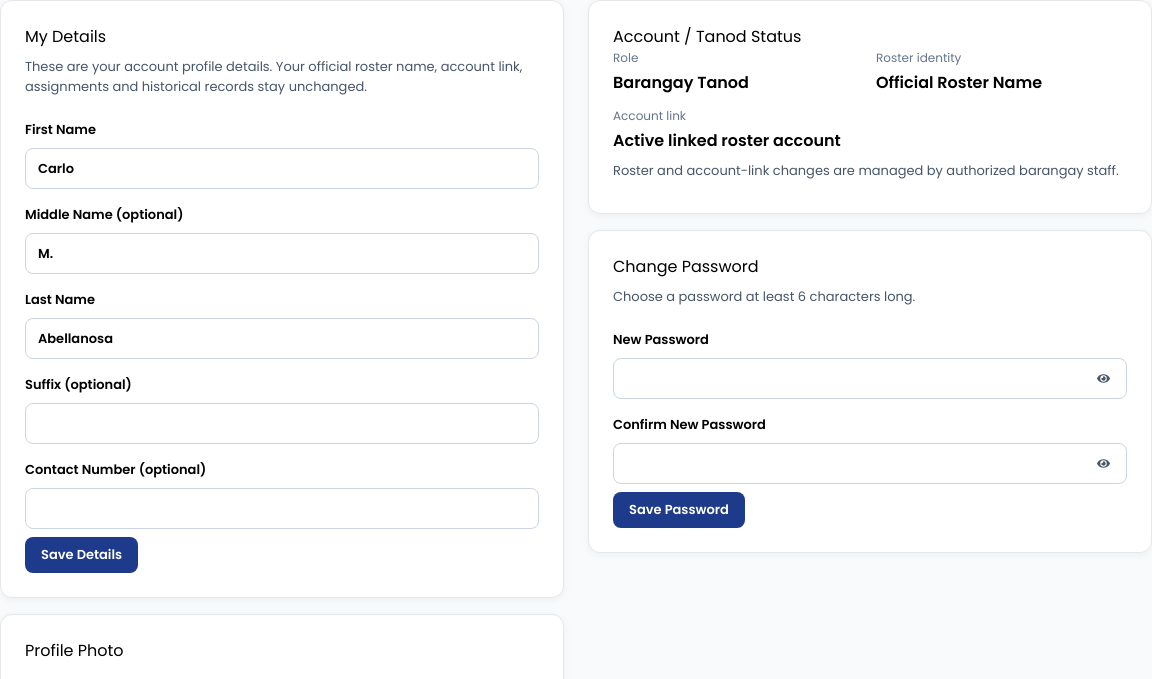
it: Auth errors leave settings available without reporting success
Type "new-secret" into the password field labelled "New Password" at [870, 378], box [613, 358, 1127, 399]
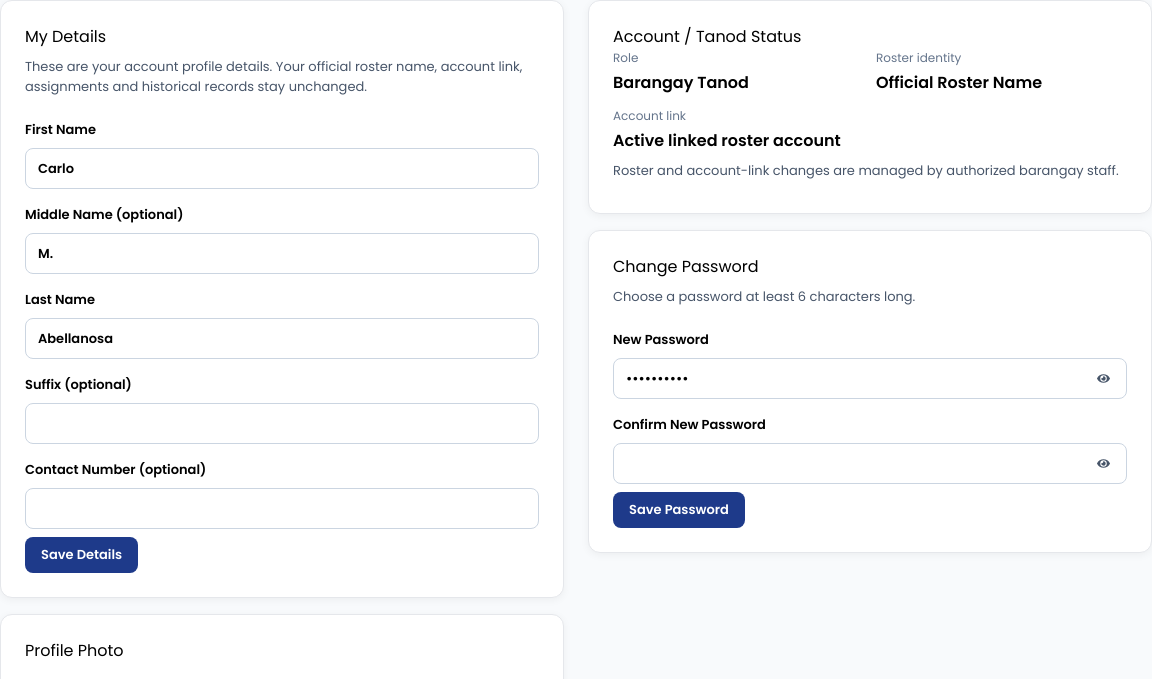
Type "new-secret" into the password field labelled "Confirm New Password" at [870, 463], box [613, 442, 1127, 484]
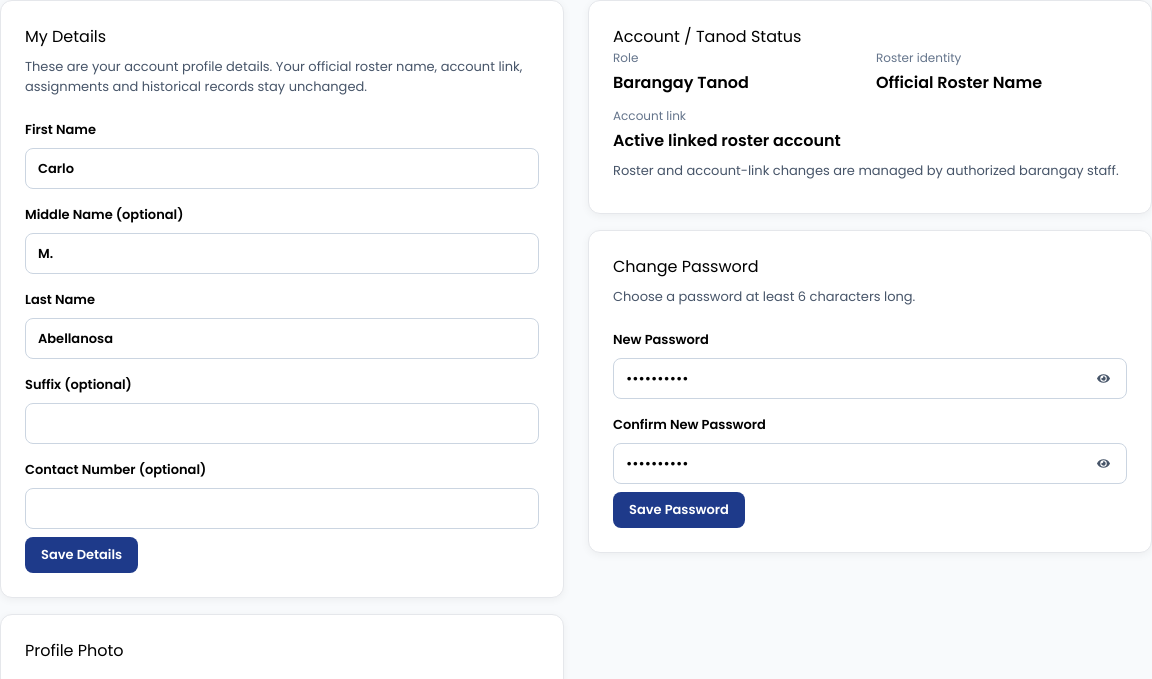
Click the button "Save Password" at [679, 510], box [613, 492, 745, 528]
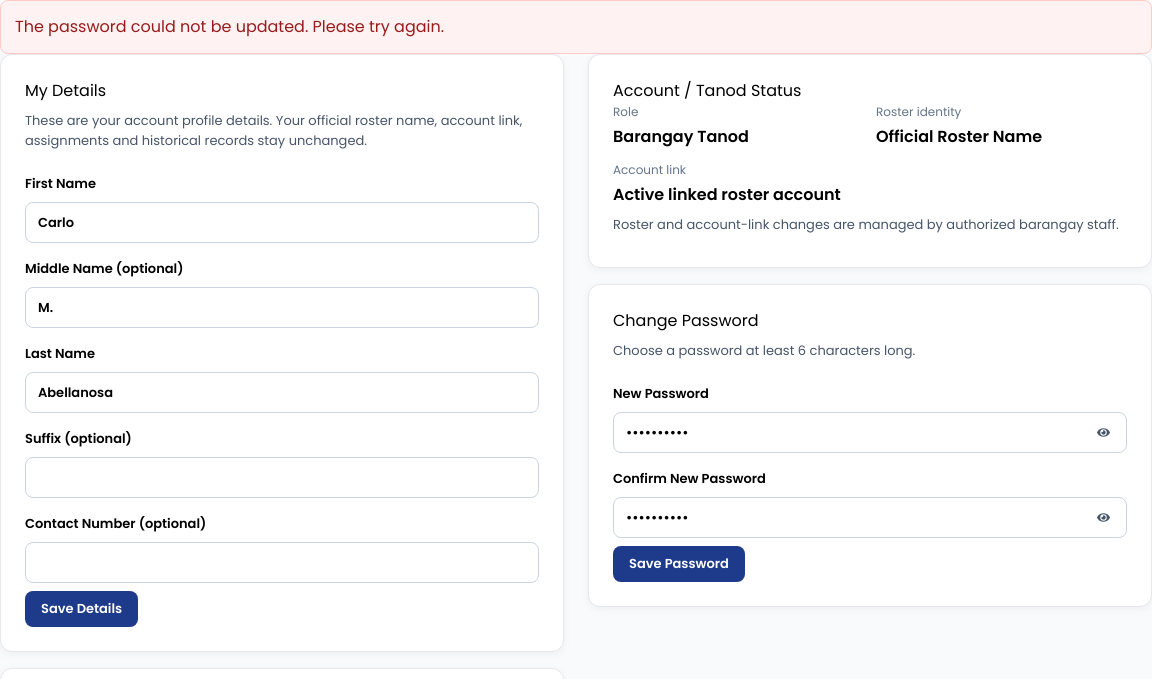
Expected: the button "Save Password" is enabled, [613, 546, 745, 582]
Expected: the message shows "could not be updated", [15, 15, 444, 38]
